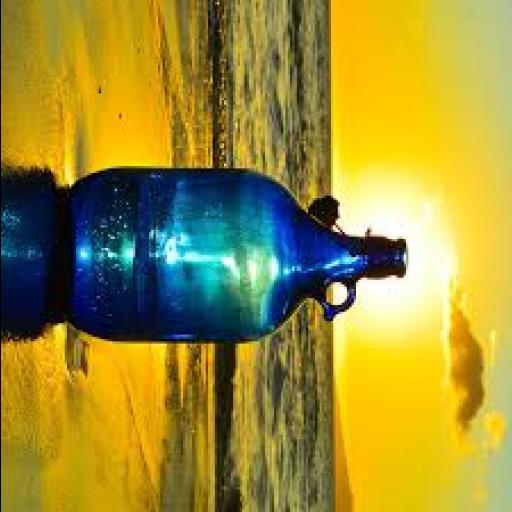blue-bottle: (66, 171, 405, 341)
